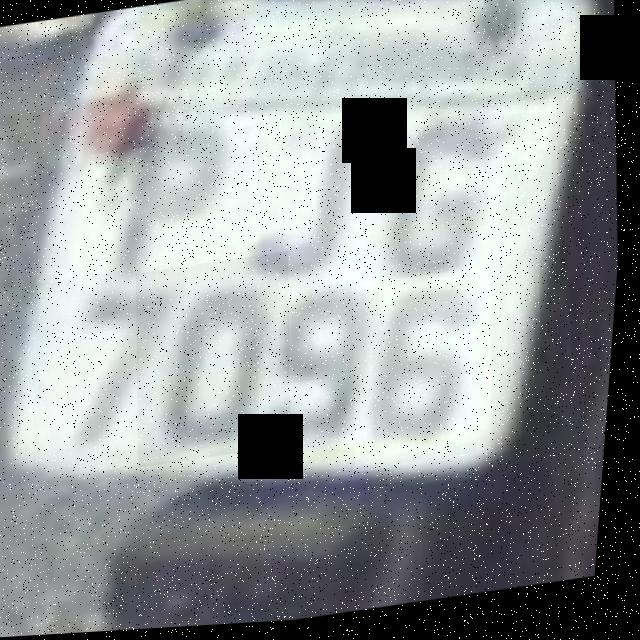0: (128, 254, 309, 470)
6: (346, 271, 510, 477)
7: (24, 263, 205, 476)
9: (250, 263, 392, 466)
G: (349, 98, 521, 302)
J: (230, 108, 387, 293)
